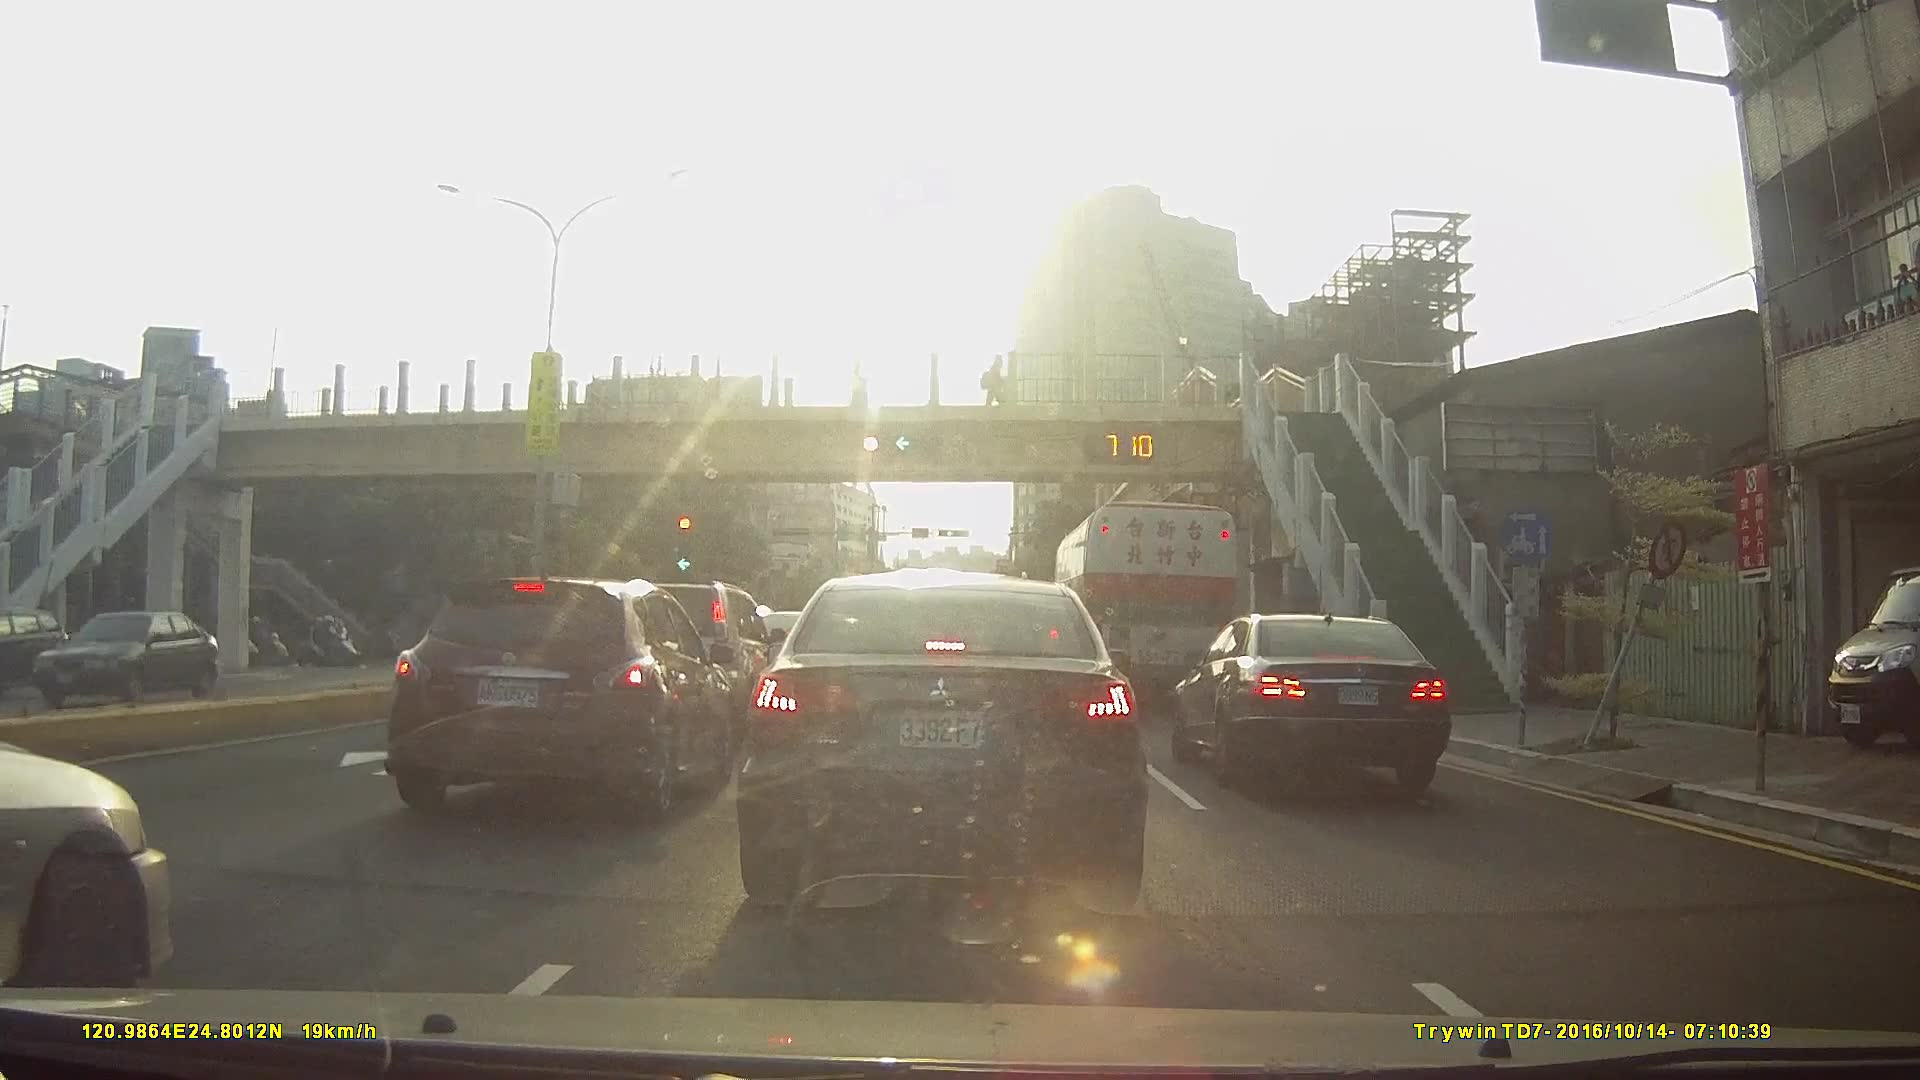pedestrian: (983, 357, 1006, 407)
rider: (306, 611, 369, 665), (233, 613, 292, 666)
vehicle: (730, 567, 1152, 910), (383, 576, 737, 822), (1167, 610, 1456, 793), (0, 737, 176, 1020), (1053, 500, 1240, 707), (14, 607, 209, 706), (0, 606, 67, 689)
